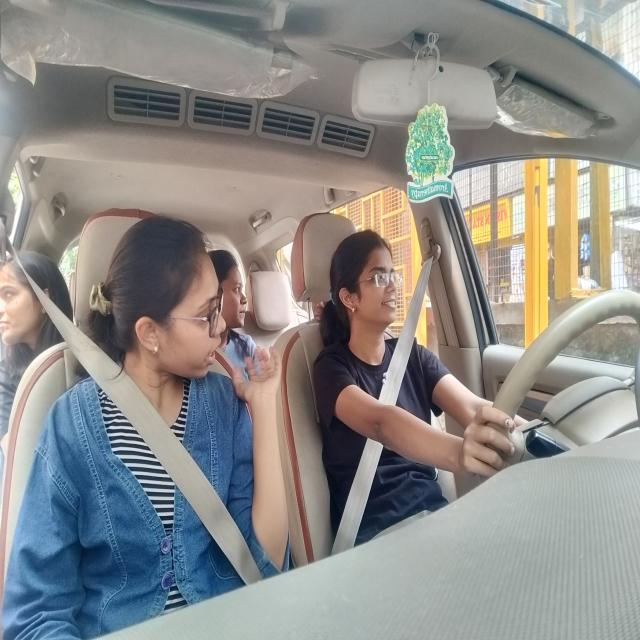LeftRight: (324, 203, 426, 363)
person: (103, 201, 241, 410), (0, 236, 70, 364), (215, 233, 259, 337)
